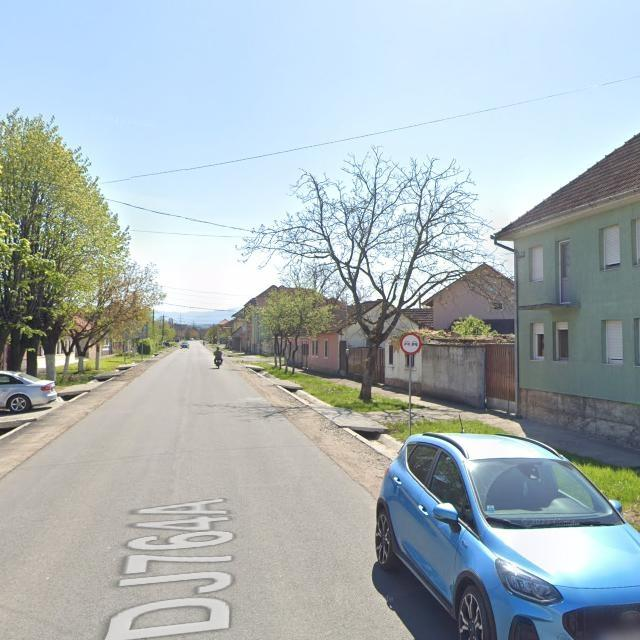forb_overtake: (400, 331, 422, 355)
